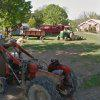Tractor: (7, 37, 92, 100)
